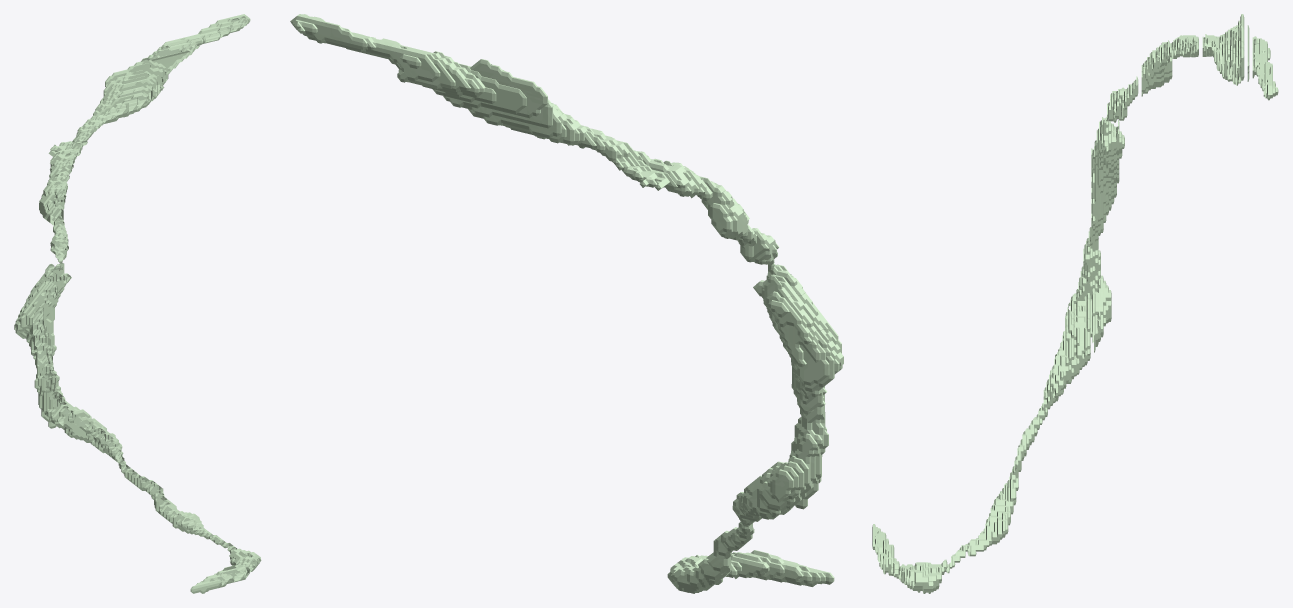
The model's file is SVV_AUAL.gltf.
3 renders of one model, left to right at view 1: azimuth 30°, elevation 25°; view 2: azimuth 150°, elevation 25°; view 3: azimuth 270°, elevation 25°, orthographic. The views are drawn at different scales.
Parts seen in each view (by area): view 1: AUAL; view 2: AUAL; view 3: AUAL.
Part boxes in pixels (x1,y1,x2,y2): AUAL: (14,14,261,593); AUAL: (290,14,843,593); AUAL: (872,14,1278,593).
Size of the model in its own units: 67089 by 94256 by 58893.
